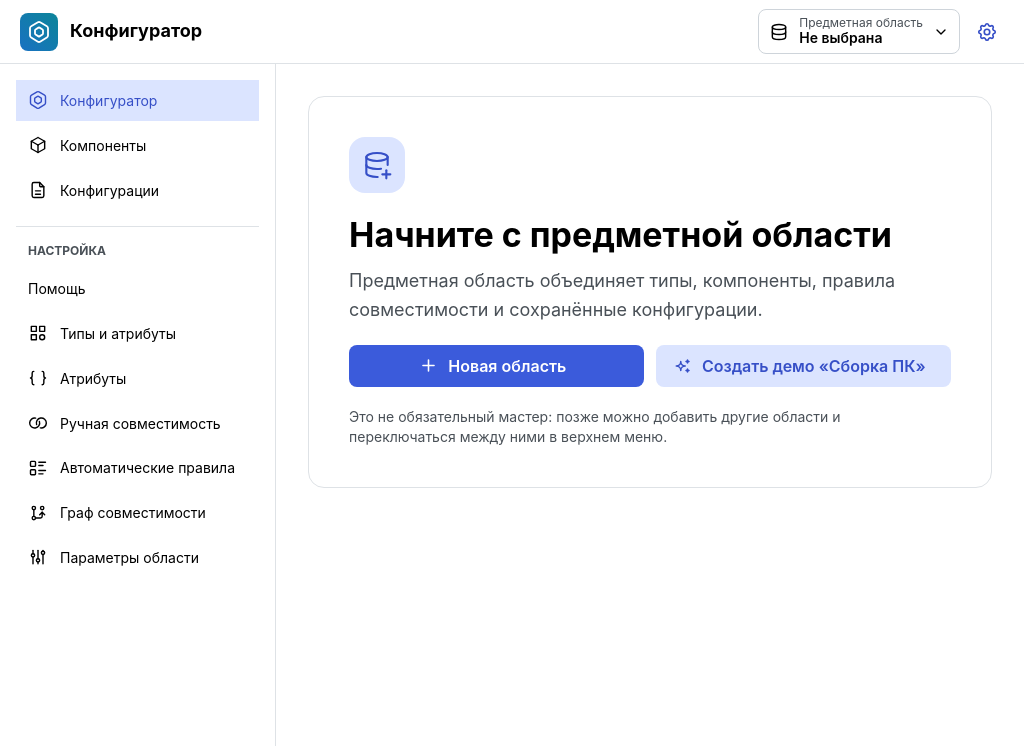
domain first run and management › creates the first domain with client validation, trimmed payload and automatic selection
Check: the heading "Начните с предметной области" is shown, box top-left (349, 213), bottom-right (951, 257)
Click the button "Новая область".
click(496, 366)  # box top-left (349, 345), bottom-right (644, 387)
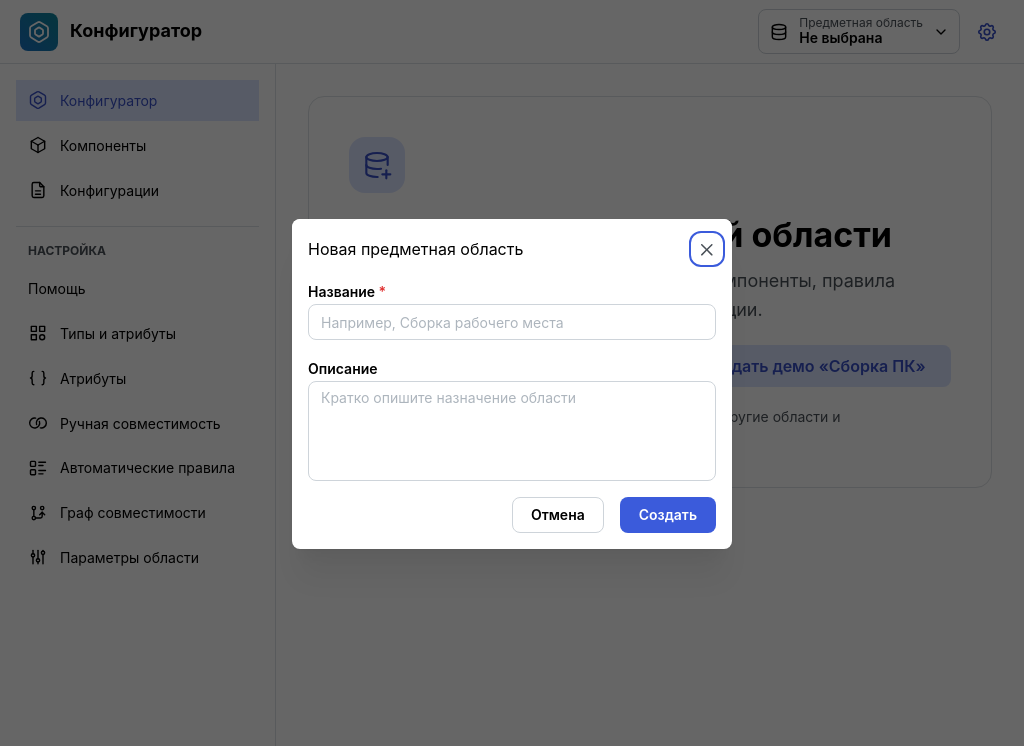
Click the button "Создать".
click(668, 515)  # box top-left (620, 497), bottom-right (716, 533)
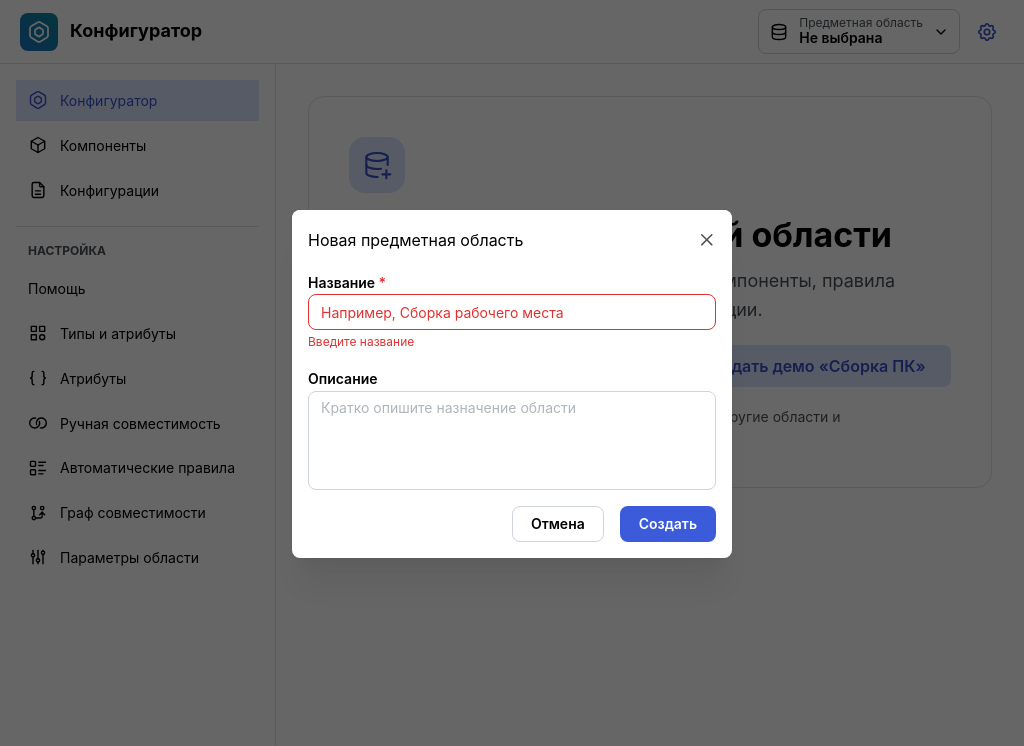
Check: the text "Введите название" is shown, box top-left (308, 334), bottom-right (414, 349)
Type "  Новый каталог  " into the field labelled "Название *".
click(512, 312); type("  Новый каталог  ")  # box top-left (308, 294), bottom-right (716, 330)
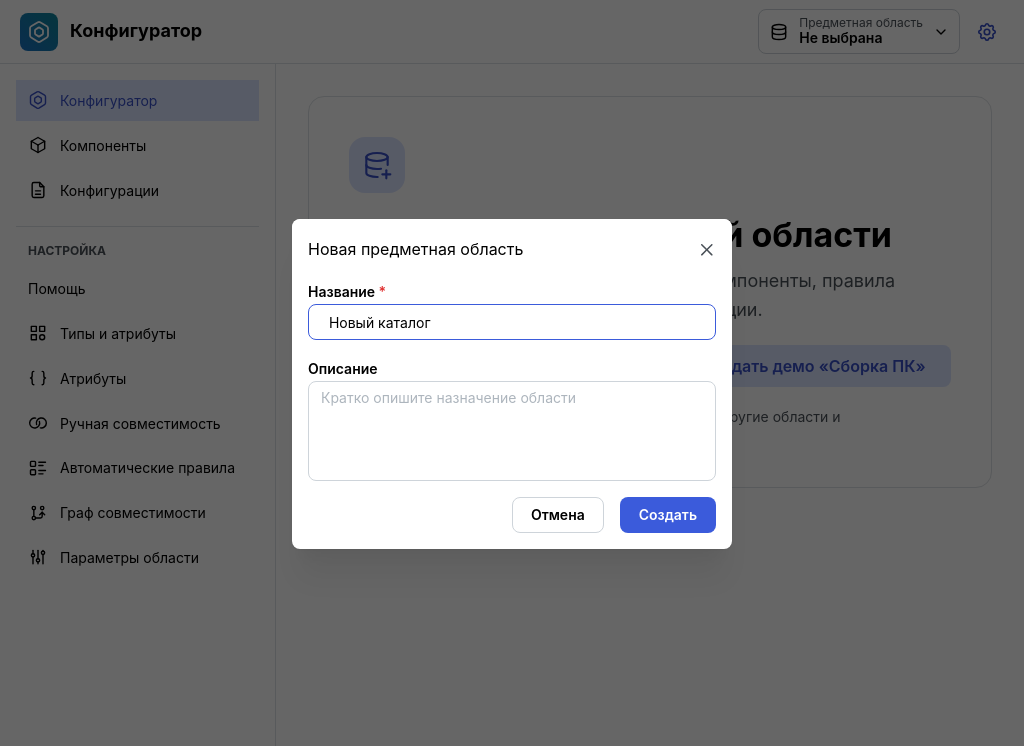
Type "  Для тестов  " into the text box labelled "Описание".
click(512, 431); type("  Для тестов  ")  # box top-left (308, 381), bottom-right (716, 481)
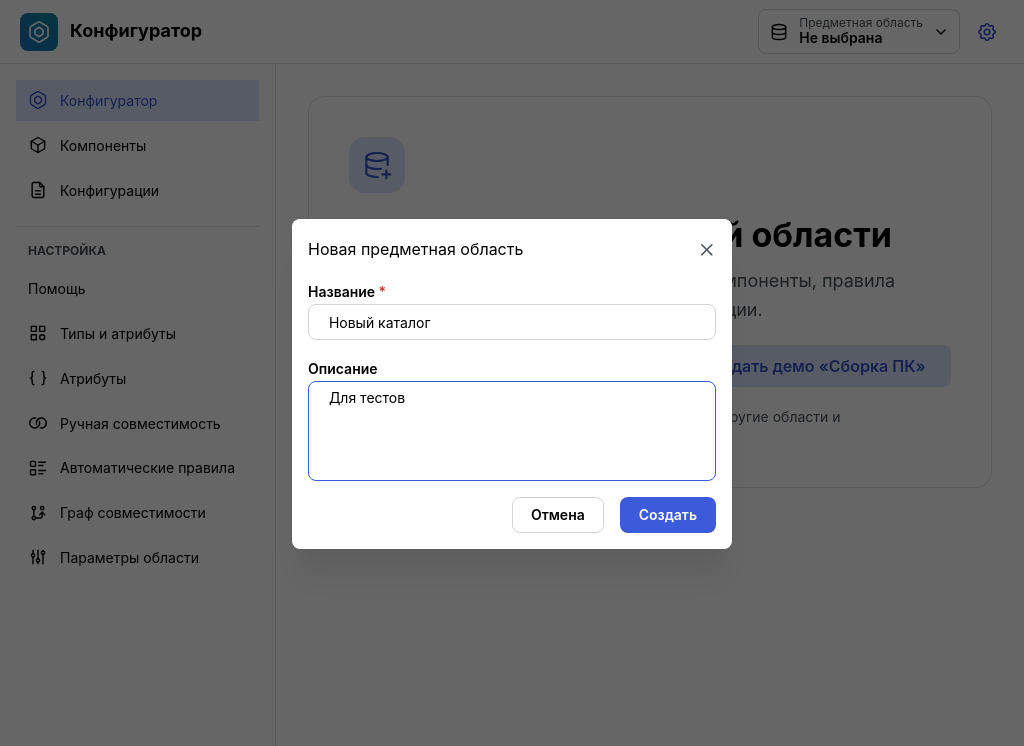
Click the button "Создать".
click(668, 515)  # box top-left (620, 497), bottom-right (716, 533)
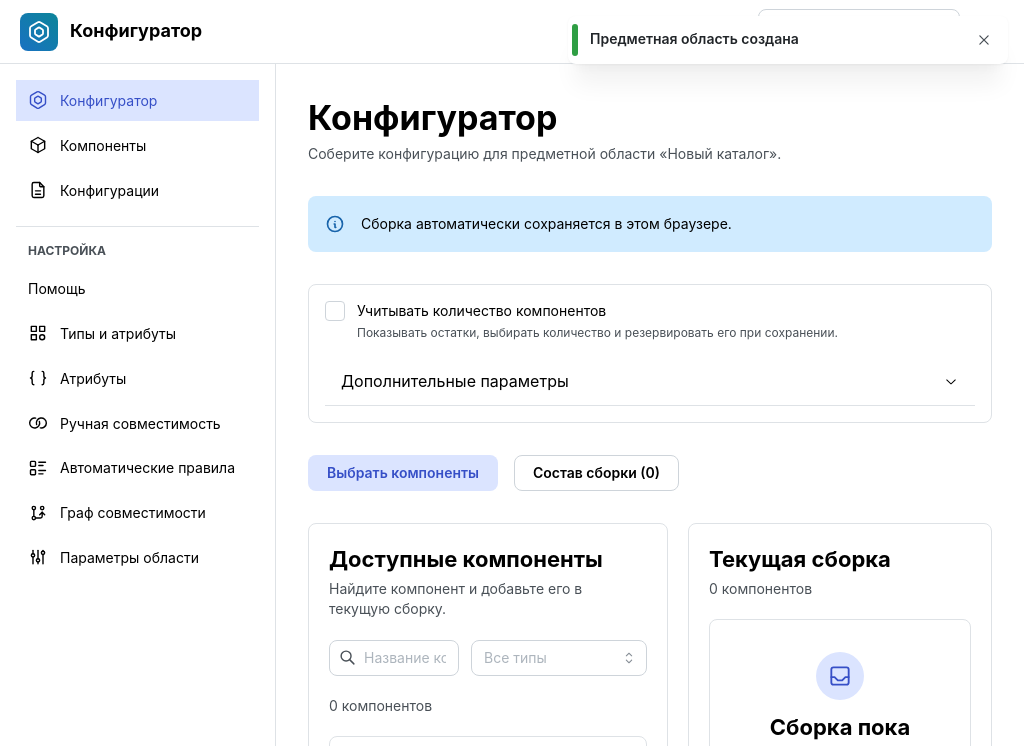
Check: the heading "Конфигуратор" is shown, box top-left (308, 97), bottom-right (557, 138)
Check: the button with aria-label "Предметная область: Новый каталог" is shown, box top-left (758, 9), bottom-right (960, 54)
Check: the text "Предметная область создана" is shown, box top-left (590, 30), bottom-right (799, 47)
